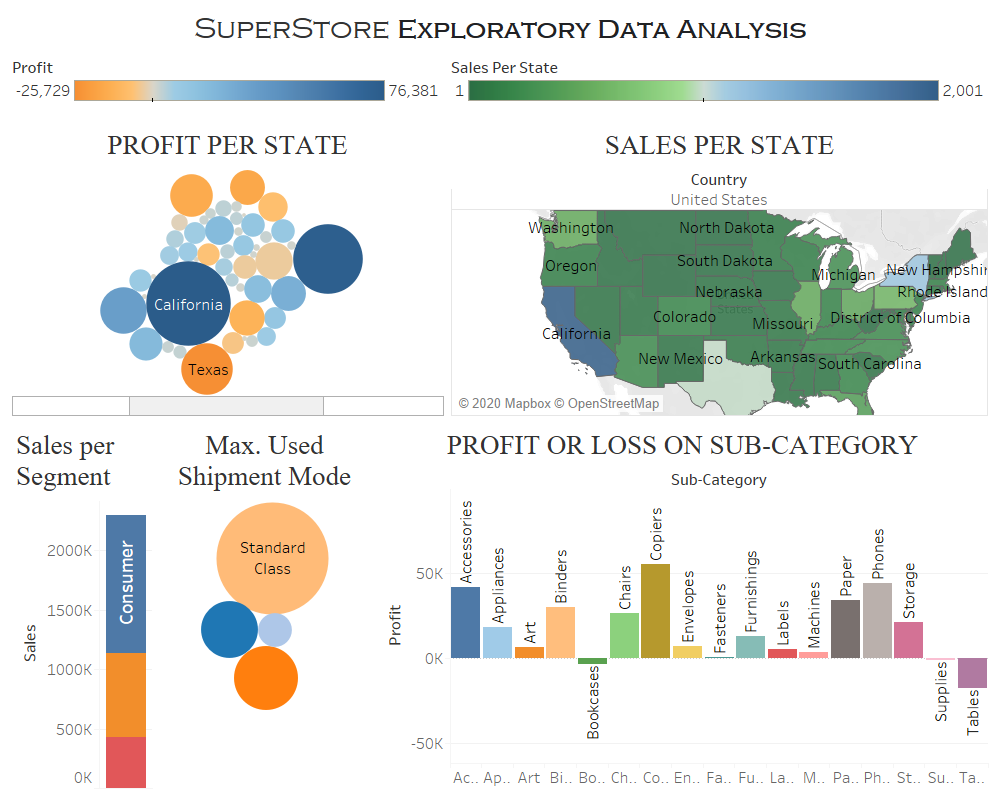

What the dashboard file says about the page in this screenshot:
{"tool":"tableau","page":{"name":"SuperStore EDA","canvas":[1000,800],"ordinal":0},"visuals":[{"type":"worksheet","box":[0,0,1000,800]},{"type":"worksheet","param":"vert","box":[8,8,984,784]},{"type":"worksheet","box":[8,8,984,41]},{"type":"worksheet","param":"horz","box":[8,49,984,743]},{"type":"worksheet","box":[8,49,984,743]},{"type":"worksheet","title":"Profit per state","mark":"Circle","param":"[federated.0d562ri1xiuj3m1cqjjmt0kg4izh].[sum:Profit:qk]","box":[8,49,439.4,71.1]},{"type":"worksheet","title":"Sales per state","mark":"Automatic","cols":["Country"],"param":"[federated.0d562ri1xiuj3m1cqjjmt0kg4izh].[__tableau_internal_object_id__].[cnt:S","box":[447.4,49,544.5,71.1]},{"type":"worksheet","title":"Profit per state","mark":"Circle","box":[8,120.1,439.4,300.4]},{"type":"worksheet","title":"Sales per state","mark":"Automatic","cols":["Country"],"box":[447.4,120.1,544.5,300.4]},{"type":"worksheet","title":"Sales per Segment","mark":"Automatic","rows":["Sales"],"box":[8,420.5,148.1,371.5]},{"type":"worksheet","title":"Max Used shipment mode","mark":"Circle","box":[156.1,420.5,217.3,371.5]},{"type":"worksheet","title":"Profit/Loss on Subcategories","mark":"Automatic","rows":["Profit"],"cols":["Sub-Category"],"box":[373.4,420.5,618.6,371.5]}]}

Visuals, with their boxes in screenshot pixels (x1, y1, x2, y2), scaled from the page's 1000x800 canvas onto the 1000x800 screenshot:
worksheet: bbox=(0, 0, 999, 799)
worksheet: bbox=(8, 8, 992, 792)
worksheet: bbox=(8, 8, 992, 49)
worksheet: bbox=(8, 49, 992, 792)
worksheet: bbox=(8, 49, 992, 792)
"Profit per state" worksheet (Circle marks): bbox=(8, 49, 447, 120)
"Sales per state" worksheet: bbox=(447, 49, 992, 120)
"Profit per state" worksheet (Circle marks): bbox=(8, 120, 447, 420)
"Sales per state" worksheet: bbox=(447, 120, 992, 420)
"Sales per Segment" worksheet: bbox=(8, 420, 156, 792)
"Max Used shipment mode" worksheet (Circle marks): bbox=(156, 420, 373, 792)
"Profit/Loss on Subcategories" worksheet: bbox=(373, 420, 992, 792)
